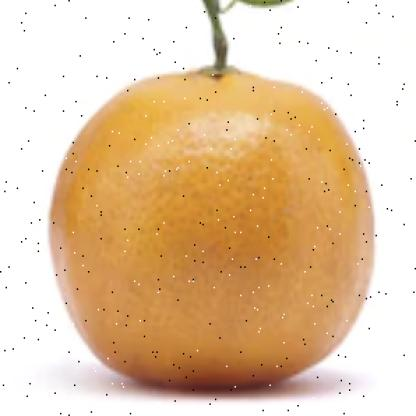fresh: (52, 65, 375, 394)
